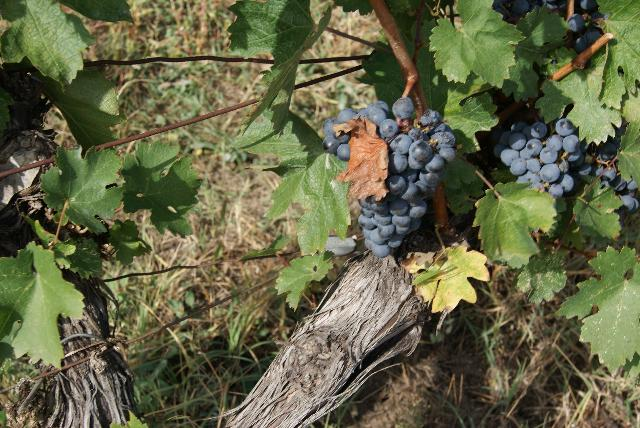grapes: (359, 96, 456, 258), (324, 110, 362, 158)
